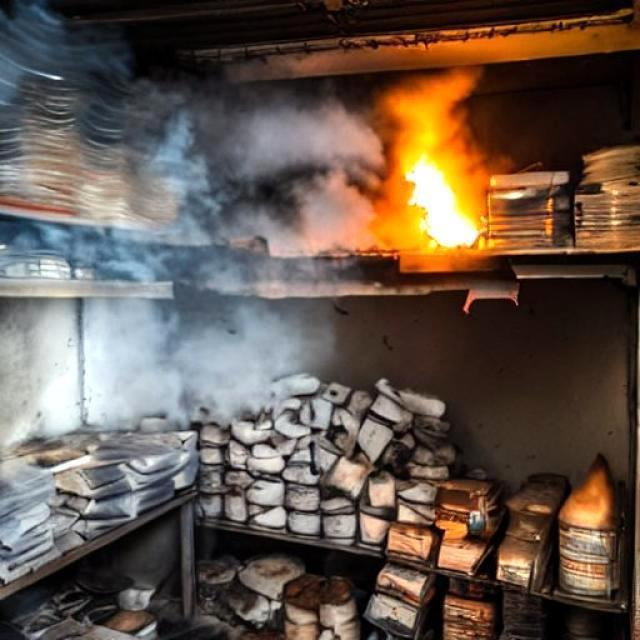Fire: (382, 114, 494, 272)
Smoke: (2, 90, 404, 436)
